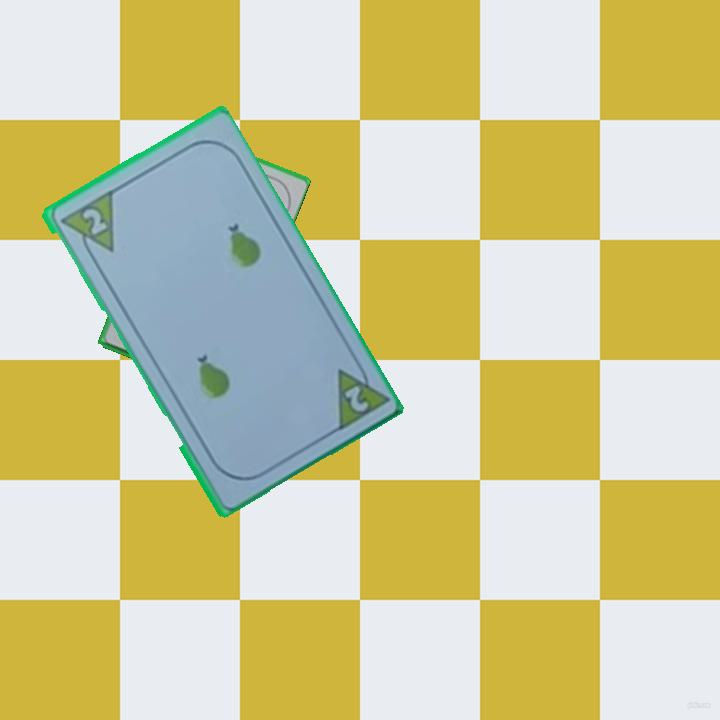2p: (78, 204, 110, 238), (340, 381, 371, 415)
